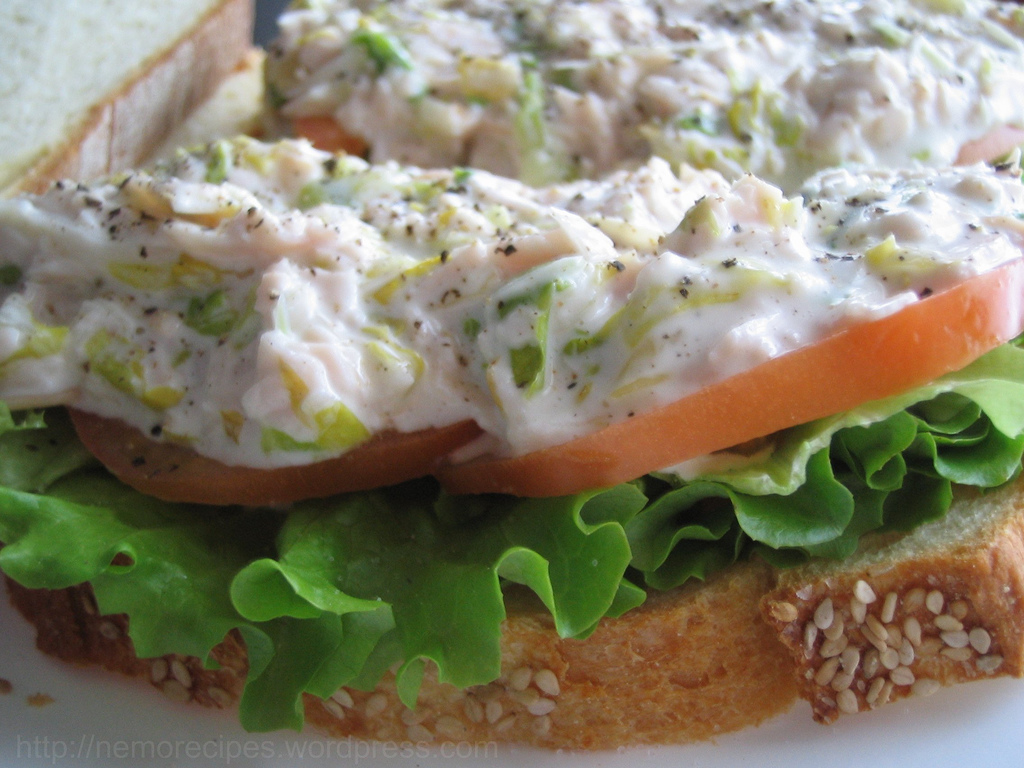chopped lettuce: (17, 468, 745, 643)
